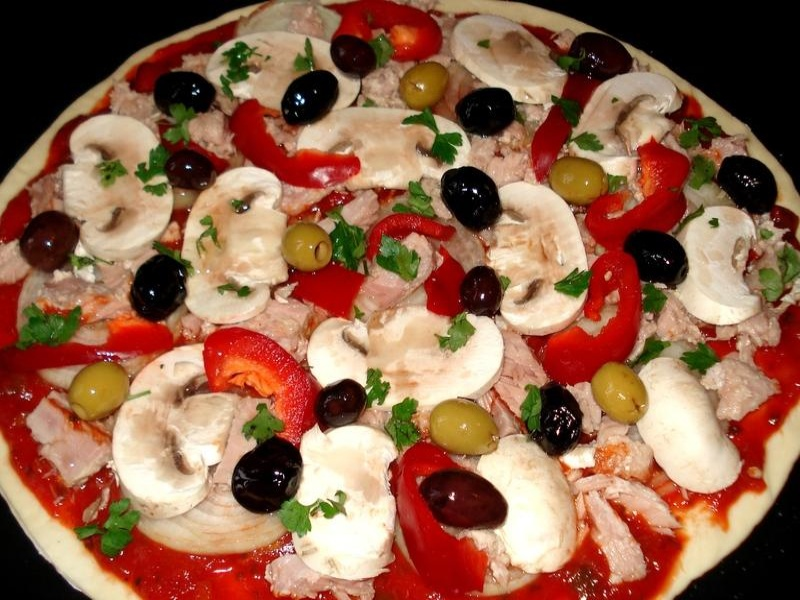champignon: (104, 342, 243, 522), (299, 303, 508, 421), (109, 340, 242, 514), (172, 161, 300, 327), (290, 422, 409, 584), (61, 109, 185, 262), (475, 178, 591, 339), (629, 352, 754, 500), (290, 105, 485, 197), (474, 425, 583, 584), (564, 66, 698, 182), (663, 203, 770, 335), (448, 15, 569, 110)
olive: (225, 434, 315, 518), (412, 466, 520, 535), (61, 346, 133, 433), (711, 147, 788, 222), (616, 218, 695, 291), (523, 376, 589, 463), (423, 396, 507, 464), (436, 163, 510, 236), (585, 358, 657, 432), (124, 252, 190, 332), (541, 150, 624, 210), (564, 23, 639, 86), (18, 208, 85, 276), (273, 218, 338, 281), (308, 375, 373, 438), (147, 69, 226, 119), (278, 72, 345, 128), (452, 84, 521, 137), (324, 30, 386, 84), (393, 58, 452, 114), (455, 263, 505, 325), (163, 149, 224, 198)
